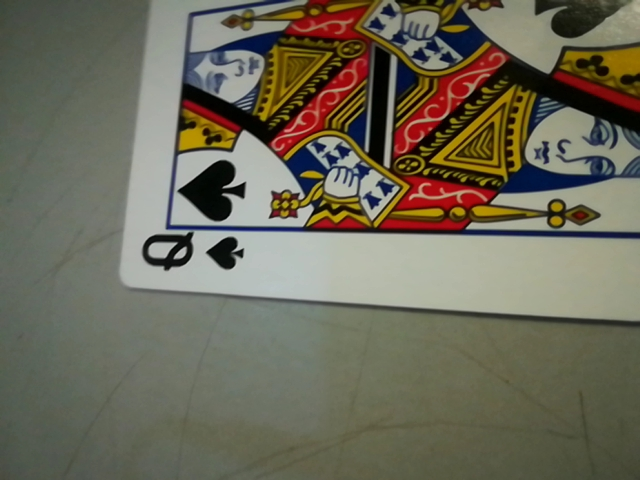ht q: (123, 217, 253, 286)
